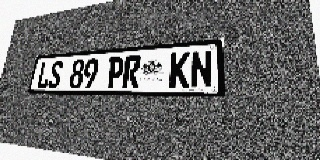8: (68, 59, 86, 88)
9: (82, 58, 100, 88)
K: (169, 51, 190, 88)
L: (36, 61, 52, 88)
N: (190, 50, 212, 88)
P: (106, 56, 125, 88)
R: (122, 55, 141, 88)
S: (47, 61, 64, 88)
